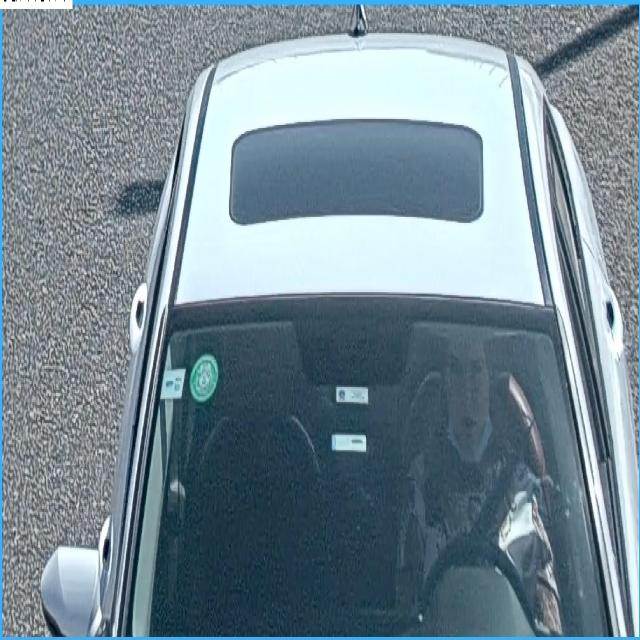windshield: (120, 311, 615, 640)
